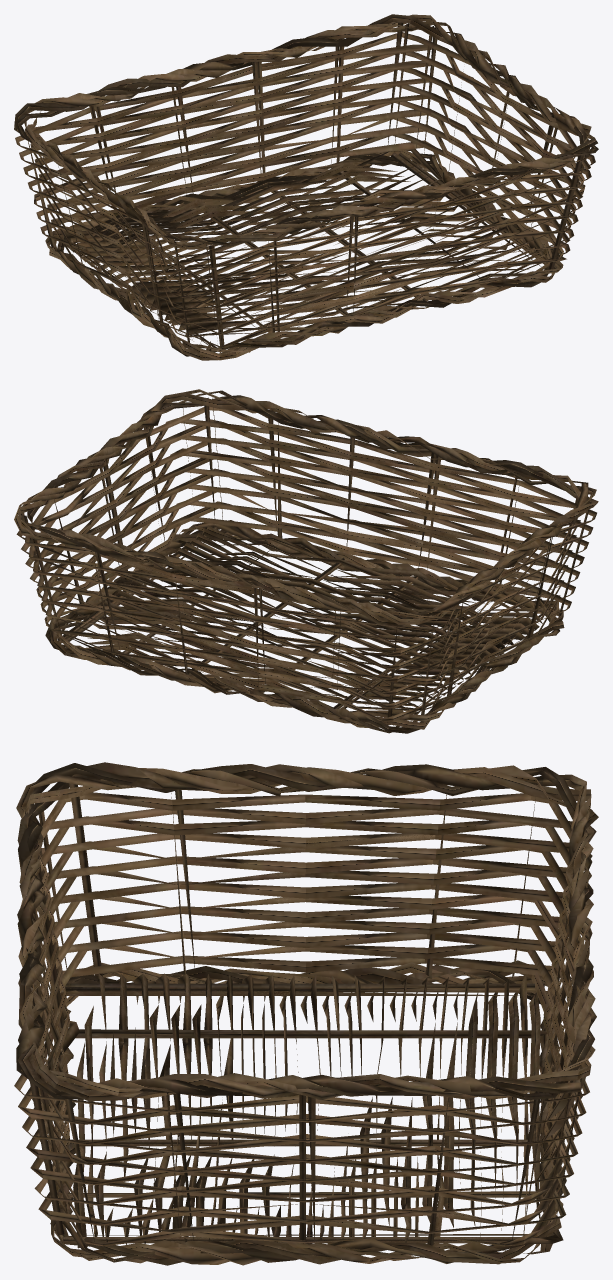
3 renders of one model, top to bottom at view 1: azimuth 30°, elevation 25°; view 2: azimuth 150°, elevation 25°; view 3: azimuth 270°, elevation 25°, orthographic. The views are drawn at different scales.
Parts seen in each view (by area): view 1: wicker_basket_01; view 2: wicker_basket_01; view 3: wicker_basket_01.
Boxes of the visible parts, x1=… form: wicker_basket_01: x1=14, y1=14, x2=598, y2=360; wicker_basket_01: x1=14, y1=389, x2=598, y2=733; wicker_basket_01: x1=14, y1=762, x2=598, y2=1265.
Size of the model in its own units: 0.383 by 0.1174 by 0.2939.
Materials: 1 (1 with a texture image).
